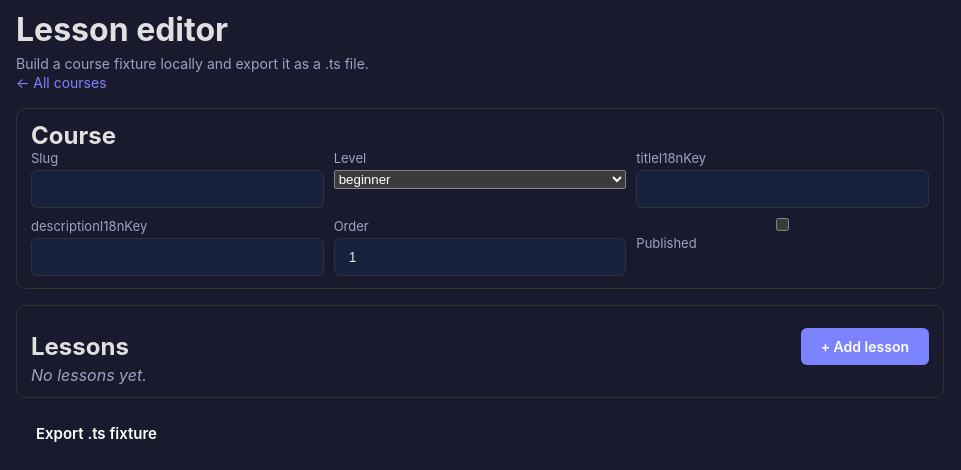
Test: <LessonEditorPage> › экспорт валидирует обязательные поля (slug курса)
What coordinates should you click on to do the following:
click the button with test id "editor-export-btn"
I would click on:
 (96, 434)
Its box is [16, 414, 177, 453].
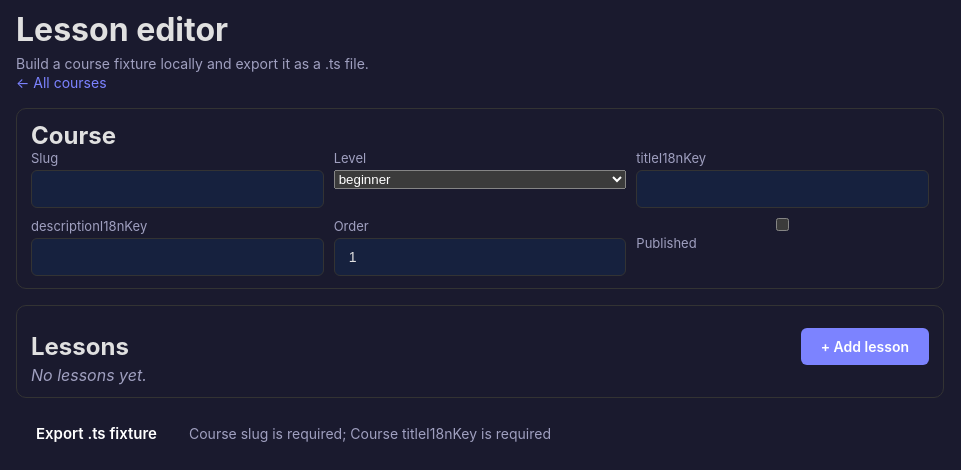
Result: the text with test id "editor-status" shows "slug is required" at [189, 425, 551, 442]
